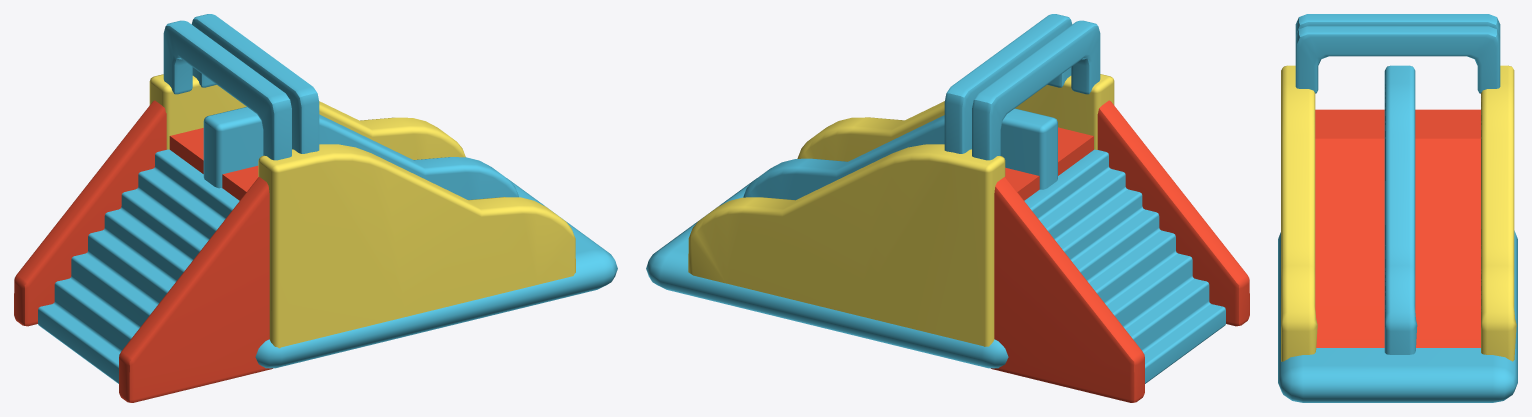
Rendered from Bouncing_Park_lvl_03 (1).fbx.
The picture shows the model from 3 angles, left to right: view 1: azimuth 30°, elevation 25°; view 2: azimuth 150°, elevation 25°; view 3: azimuth 270°, elevation 25°; orthographic projection. The views are drawn at different scales.
Visible parts, largest first — view 1: Bouncing_Park_lvl_03; view 2: Bouncing_Park_lvl_03; view 3: Bouncing_Park_lvl_03.
Part boxes in pixels (x1,y1,x2,y2): Bouncing_Park_lvl_03: [14, 14, 617, 402]; Bouncing_Park_lvl_03: [646, 14, 1249, 402]; Bouncing_Park_lvl_03: [1278, 14, 1517, 402].
Bounding box in the file's own units: 33.81 × 17.5 × 15.58.
